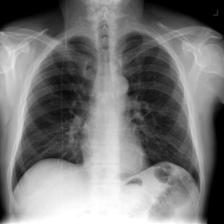normal: (7, 32, 205, 194)
